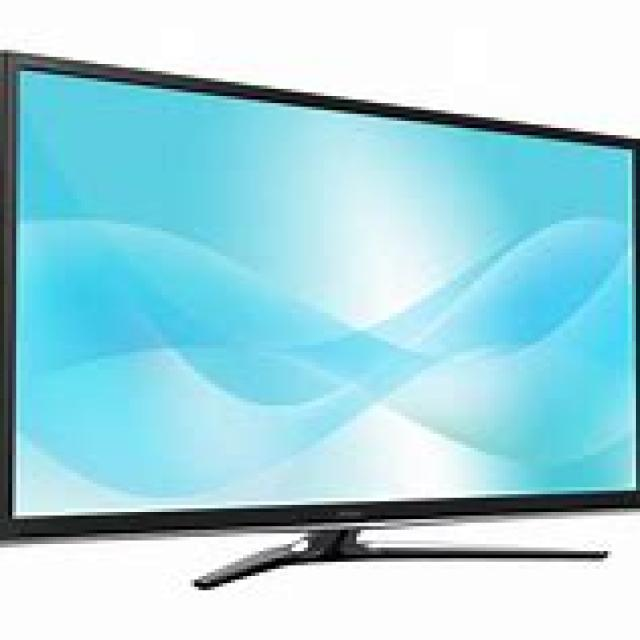tv: (0, 46, 636, 587)
